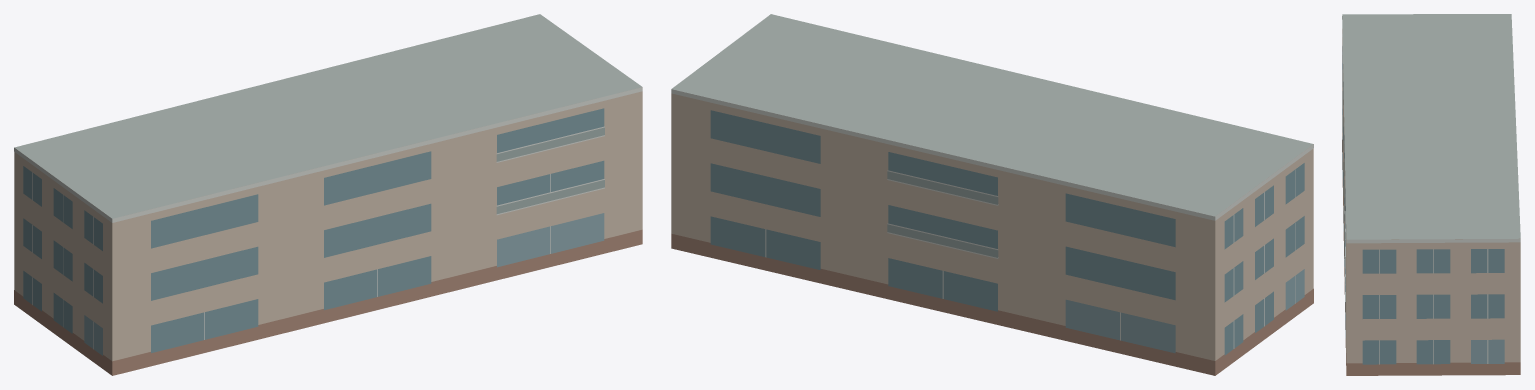
Rendered from survey-upis-32746615.glb.
The picture shows the model from 3 angles, left to right: view 1: azimuth 30°, elevation 25°; view 2: azimuth 150°, elevation 25°; view 3: azimuth 270°, elevation 25°; orthographic projection. The views are drawn at different scales.
Visible parts, largest first — view 1: survey-upis-32746615.tmp; view 2: survey-upis-32746615.tmp; view 3: survey-upis-32746615.tmp.
Part boxes in pixels (box(x1,y1,x2,y2)): survey-upis-32746615.tmp: box(14, 14, 642, 375); survey-upis-32746615.tmp: box(671, 14, 1313, 375); survey-upis-32746615.tmp: box(1342, 14, 1520, 375).
Size of the model in its own units: 32.52 by 9.15 by 10.88.
